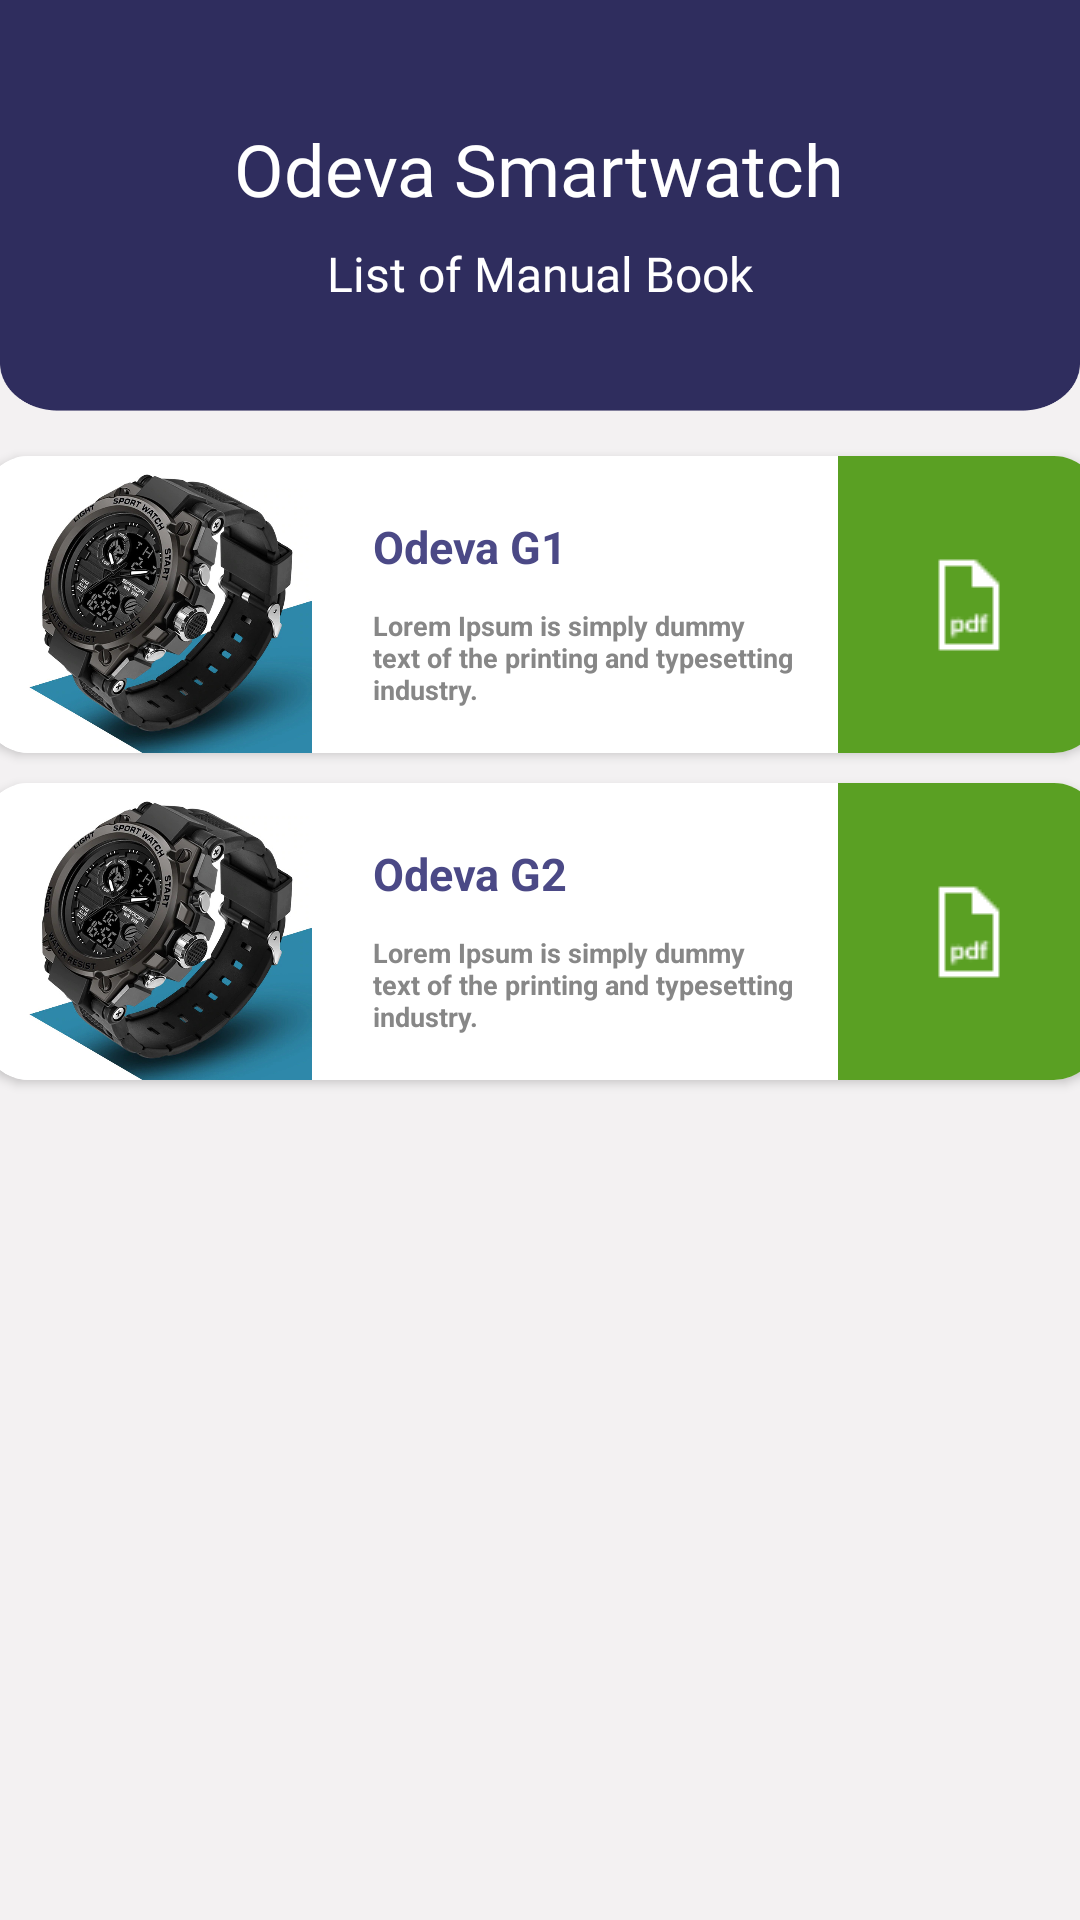

Screen size 1080x1920. Icon name, then its center in pixels as (x,y):
gambar: (156,604), (156,935)
